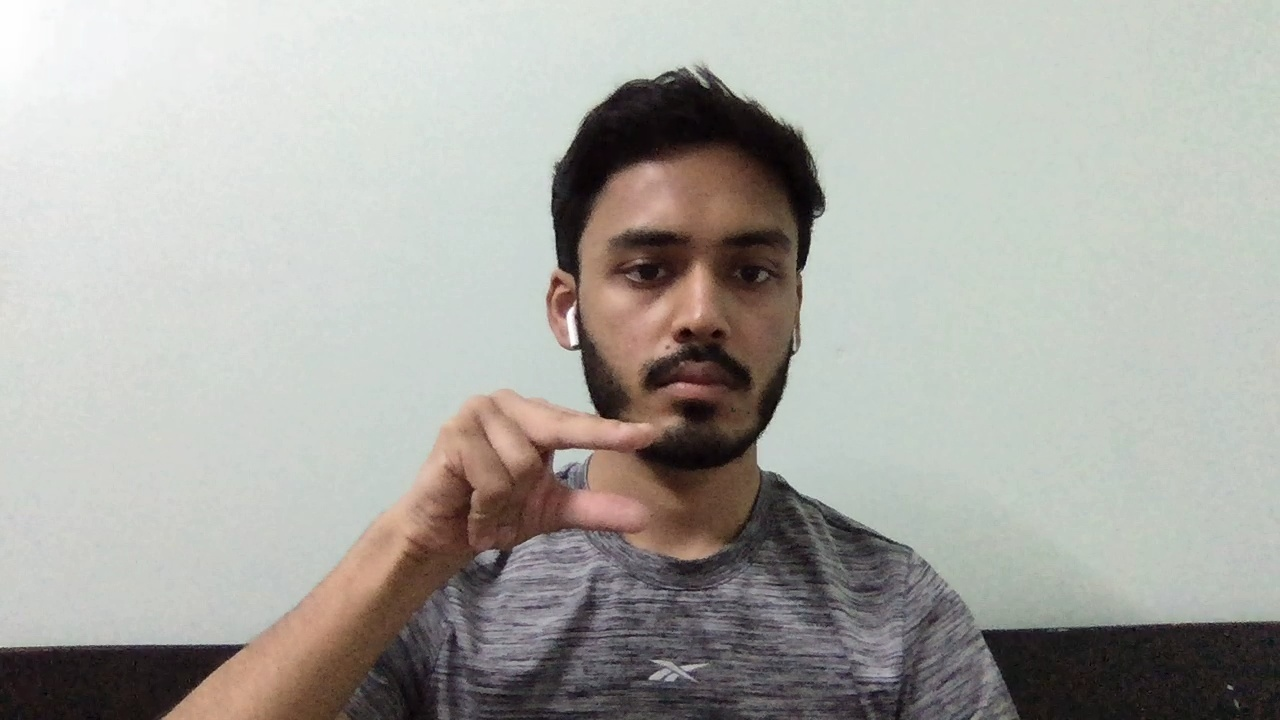No: (368, 385, 666, 576)
